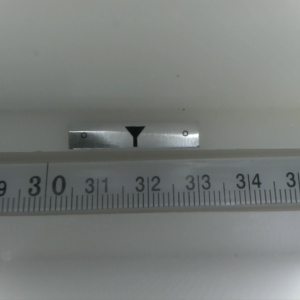0: (51, 176, 65, 195)
1: (101, 178, 108, 193)
2: (150, 176, 160, 191)
3: (28, 176, 42, 196), (285, 172, 296, 188), (134, 176, 144, 192), (84, 178, 94, 194), (200, 174, 210, 190), (185, 175, 195, 190), (235, 174, 245, 189)
4: (251, 174, 262, 188)
9: (0, 180, 7, 197)
finger: (123, 126, 145, 149)
